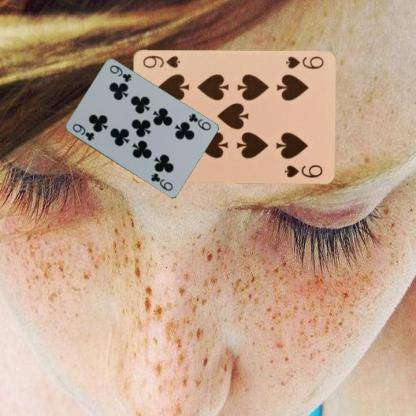9c: (70, 121, 96, 142), (186, 111, 212, 132)
9s: (283, 53, 324, 70)
